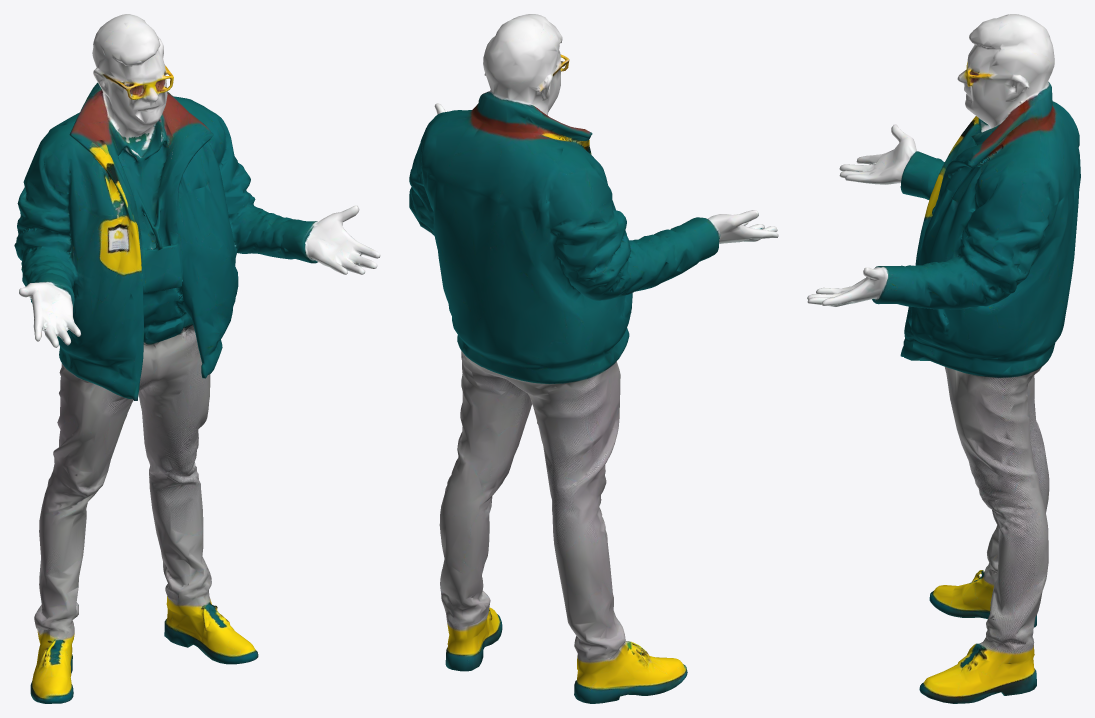
The model's file is npc_ticket_inspector.glb.
3 views of the same model, side by side, from view 1: azimuth 30°, elevation 25°; view 2: azimuth 150°, elevation 25°; view 3: azimuth 270°, elevation 25° (orthographic). The views are drawn at different scales.
Parts seen in each view (by area): view 1: Mesh_0; view 2: Mesh_0; view 3: Mesh_0.
Part boxes in pixels (<box>): Mesh_0: <box>14,14,380,703</box>; Mesh_0: <box>409,14,778,703</box>; Mesh_0: <box>807,14,1080,703</box>.
Size of the model in its own units: 0.972 by 1.8 by 0.6948.
1 material, 1 textured.
